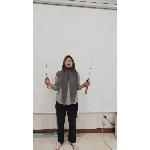Celurit: (42, 58, 54, 86)
Golok: (84, 58, 98, 94)
